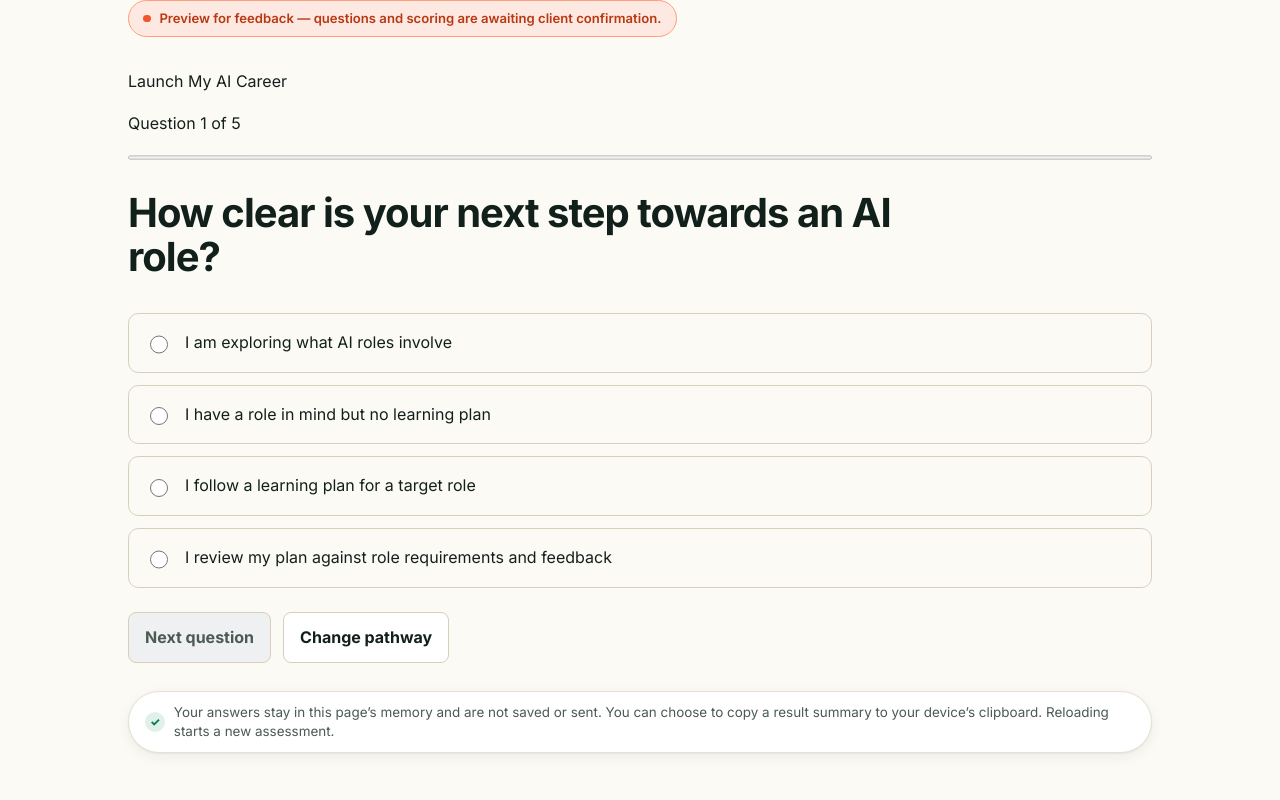
Test: assessment answer review › keeps normal unanswered questions gated and counts selected answers
Expected: the progress indicator named "Questions answered" holds "0", [128,152,1152,162]
Expected: the button "Next question" is disabled, [128,612,271,663]
Click the radio button labelled "I have a role in mind but no learning plan": (159,416) [150,407,168,425]
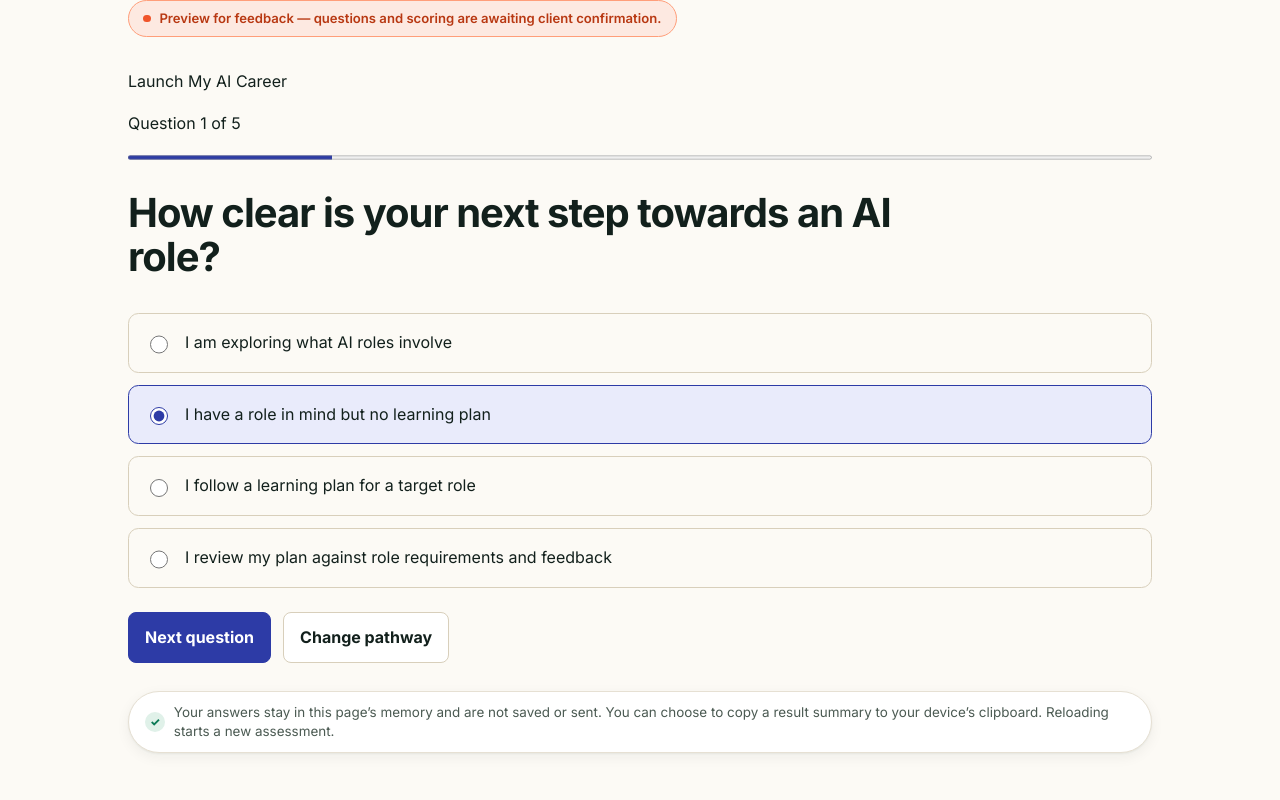
Expected: the progress indicator named "Questions answered" holds "1", [128,152,1152,162]
Click the button "Next question": (200,638) [128,612,271,663]
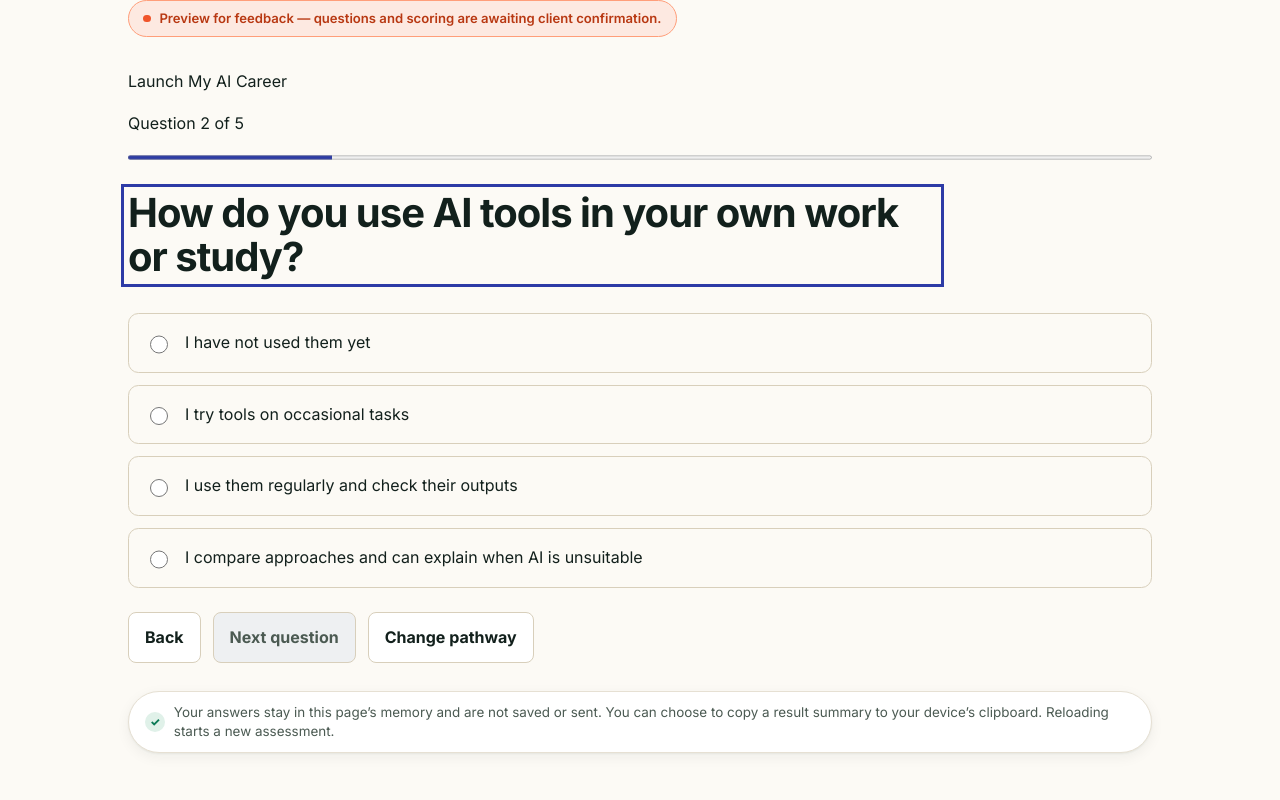
Now the button "Next question" is disabled, box [213,612,356,663]
